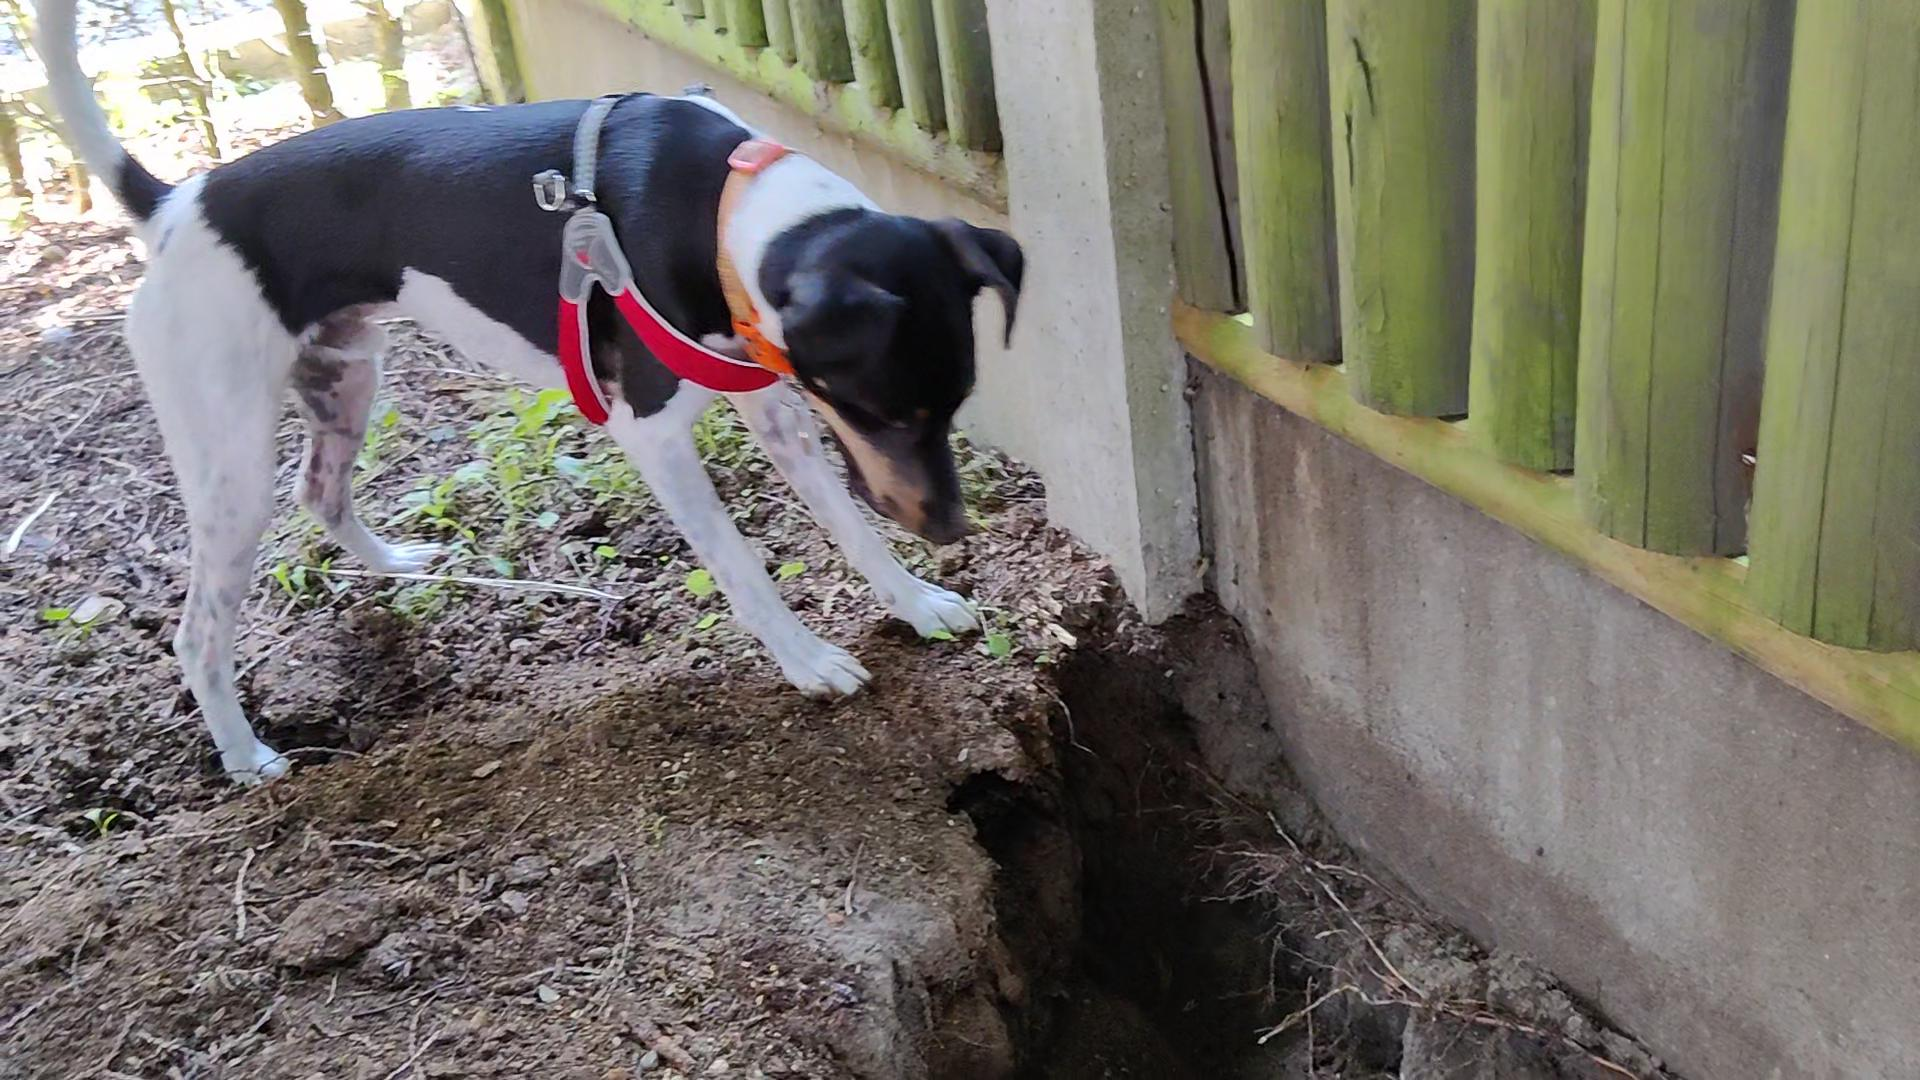Dog: (25, 0, 1040, 799)
